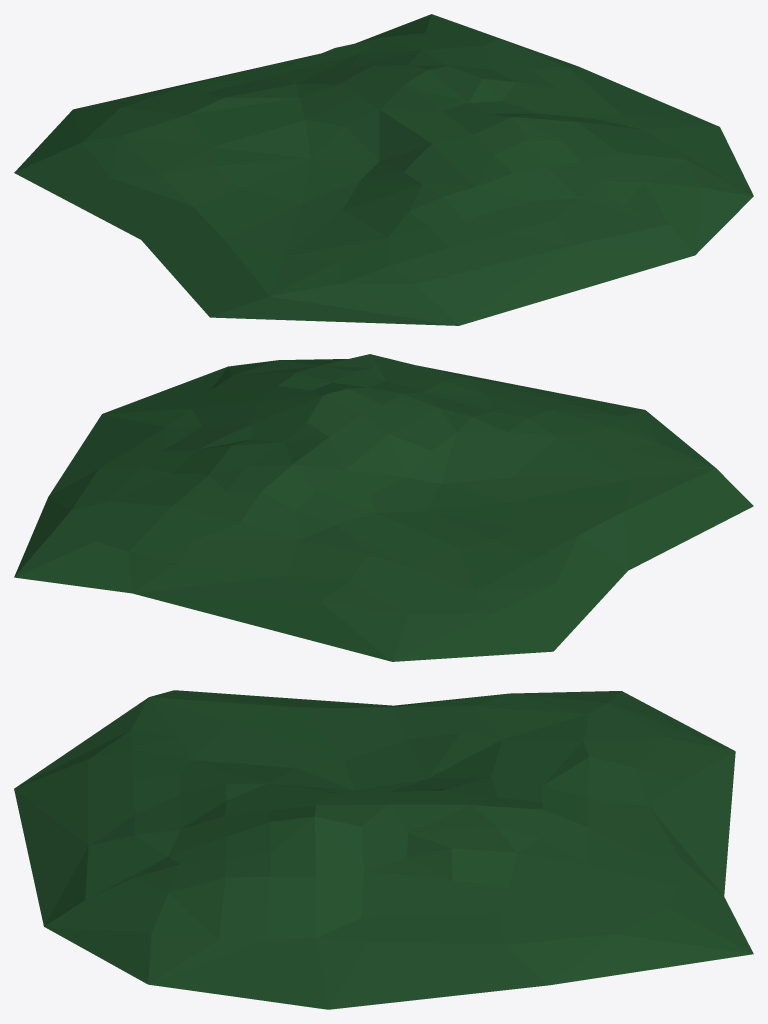
File: Ground1.fbx
3 renders of one model, top to bottom at view 1: azimuth 30°, elevation 25°; view 2: azimuth 150°, elevation 25°; view 3: azimuth 270°, elevation 25°, orthographic. The views are drawn at different scales.
Visible parts, largest first — view 1: Ground1; view 2: Ground1; view 3: Ground1.
Part boxes in pixels (box(x1,y1,x2,y2)): Ground1: box(14, 14, 753, 325); Ground1: box(14, 354, 753, 661); Ground1: box(14, 690, 753, 1009).
Bounding box in the file's own units: 44.48 × 4.88 × 43.52.
